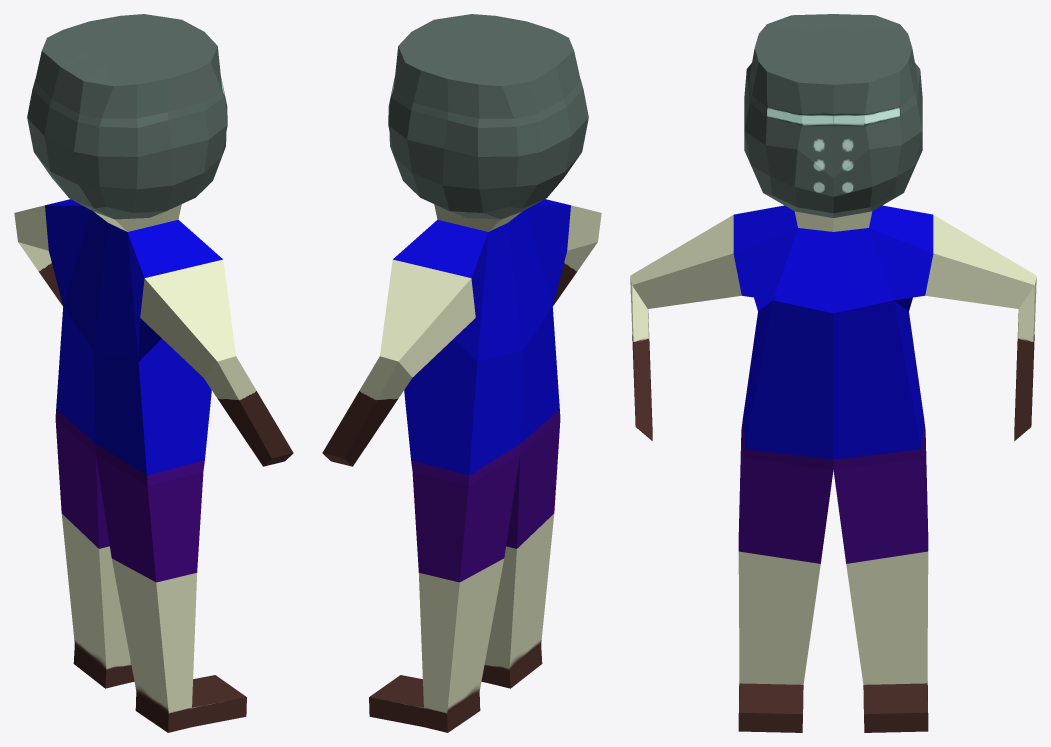
File: Humain.fbx
The picture shows the model from 3 angles, left to right: view 1: azimuth 30°, elevation 25°; view 2: azimuth 150°, elevation 25°; view 3: azimuth 270°, elevation 25°; orthographic projection.
Parts seen in each view (by area): view 1: Cube.001; view 2: Cube.001; view 3: Cube.001.
Part boxes in pixels (left/top/right/bottom): Cube.001: left=14, top=14, right=293, bottom=732; Cube.001: left=322, top=14, right=601, bottom=732; Cube.001: left=630, top=14, right=1036, bottom=732.
Size of the model in its own units: 155 by 584 by 331.
3 materials, 1 textured.
